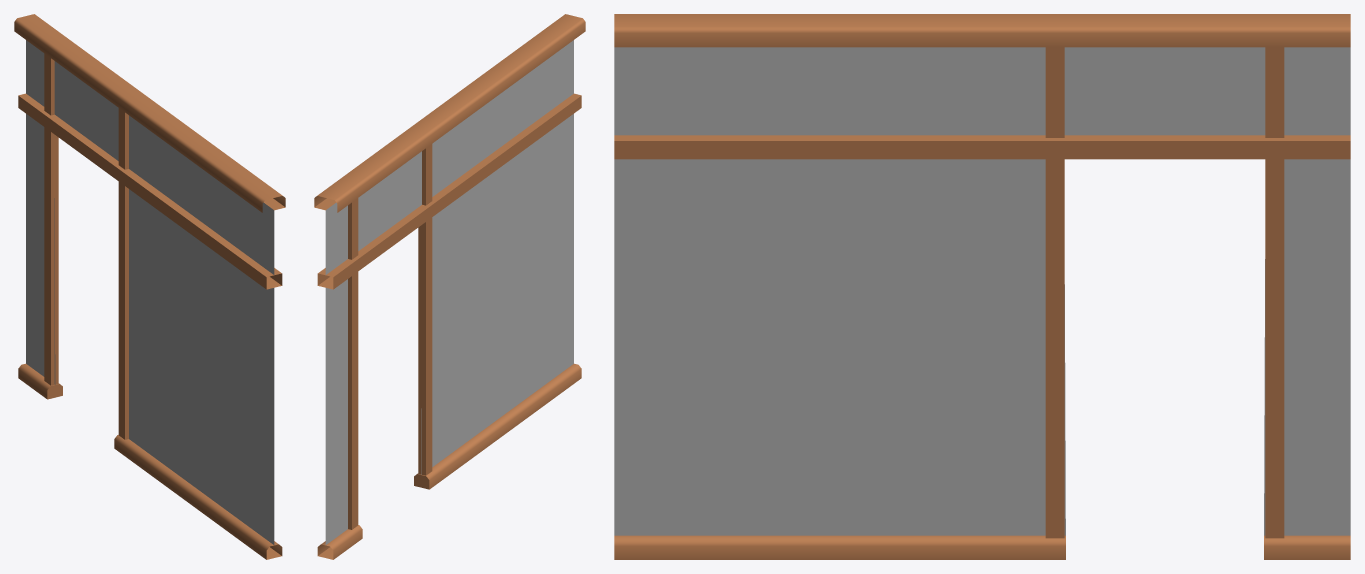
File: Wall_Plaster5.fbx
3 views of the same model, side by side, from view 1: azimuth 30°, elevation 25°; view 2: azimuth 150°, elevation 25°; view 3: azimuth 270°, elevation 25° (orthographic). The views are drawn at different scales.
Visible parts, largest first — view 1: polySurface4; view 2: polySurface4; view 3: polySurface4.
Part boxes in pixels (box(x1,y1,x2,y2)): polySurface4: box(14, 14, 285, 559); polySurface4: box(314, 14, 585, 559); polySurface4: box(614, 14, 1350, 559).
Size of the model in its own units: 0.5391 by 8 by 10.
